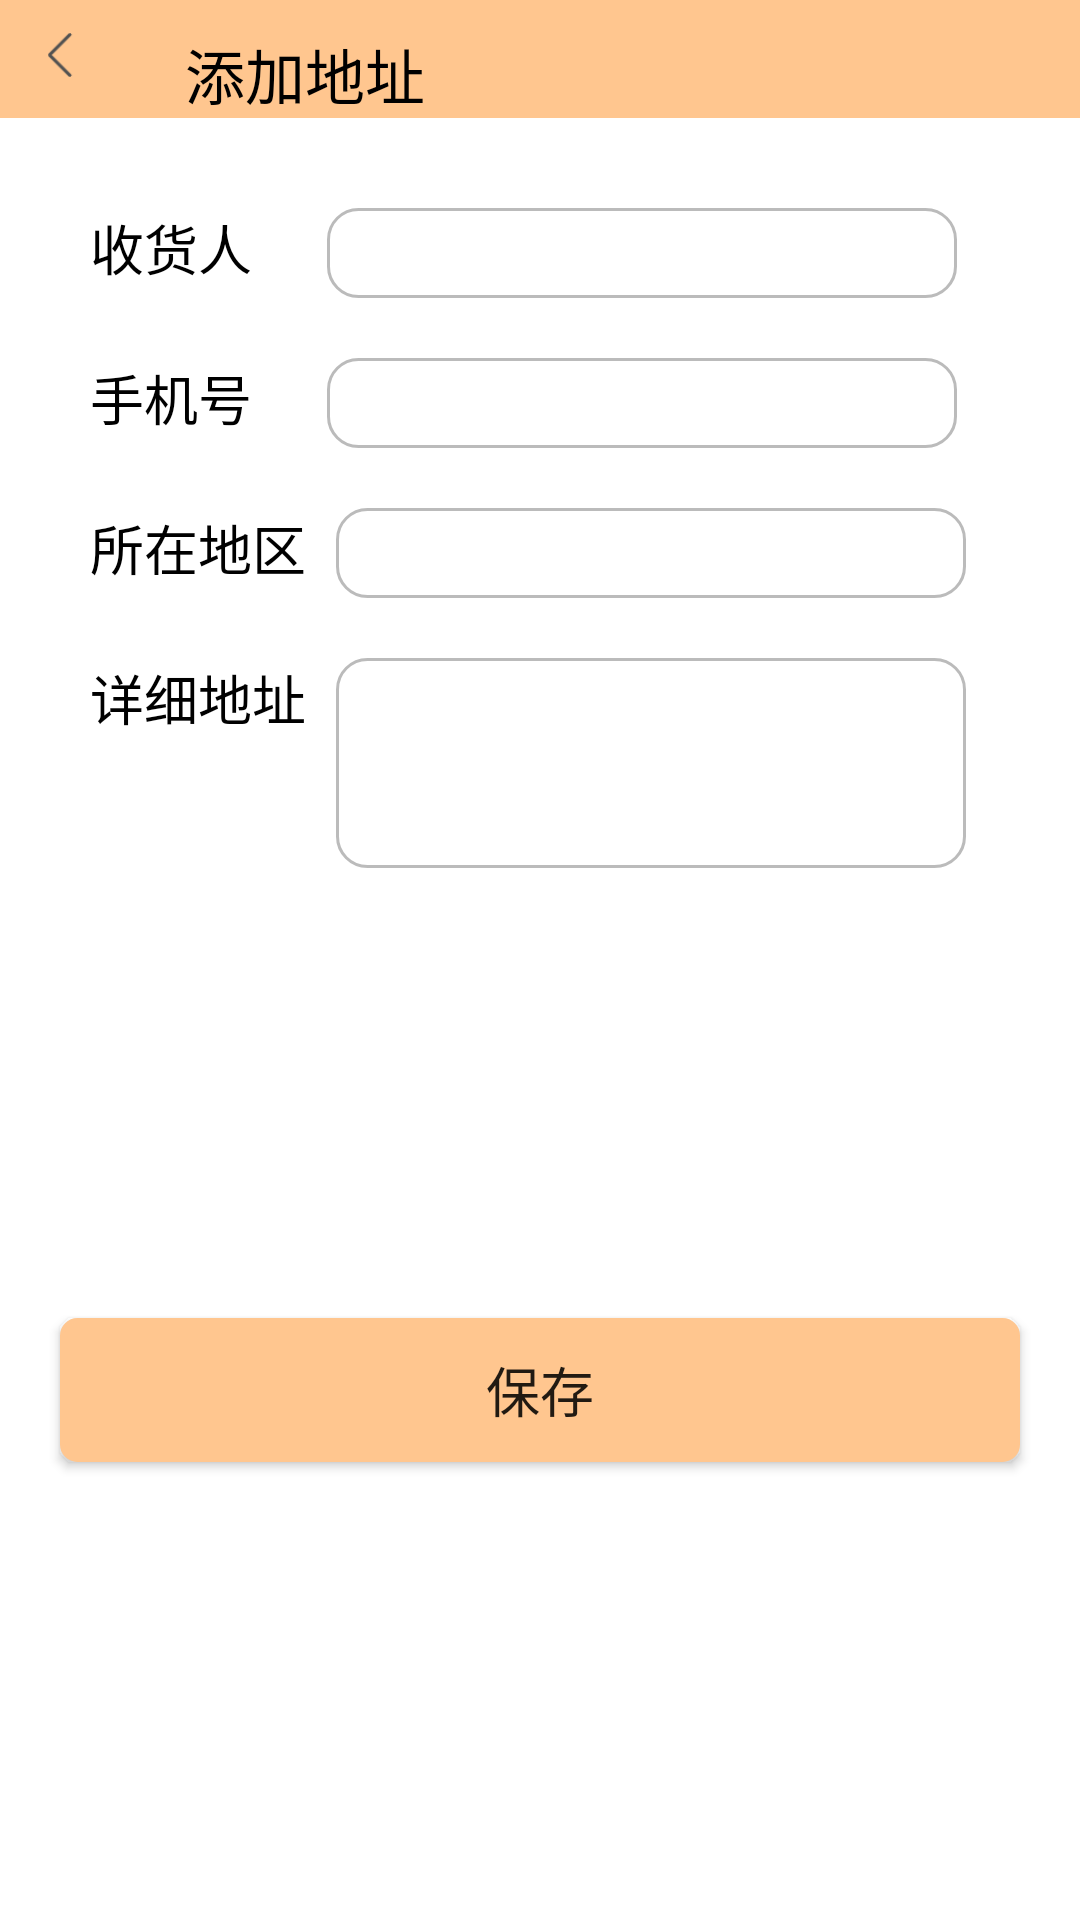

Icon bounding boxes for this 1080px x 1920px phone screenshot, format (x1, y1, x2, y2):
fanhui: (48, 33, 72, 77)
